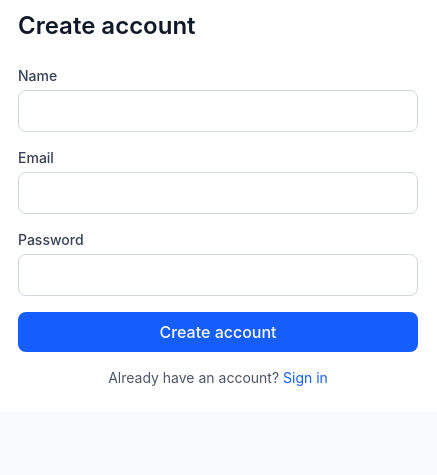
Test case: RegisterPage › clears field error when user starts typing again
Click the button "Create account": click(218, 332) [18,312,418,352]
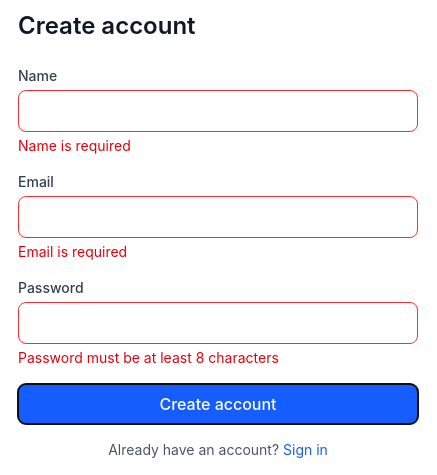
Expected: the text "Name is required" is shown, [18,137,131,154]
In the field labelled "Name": (218, 111) [18,90,418,132], type "A"
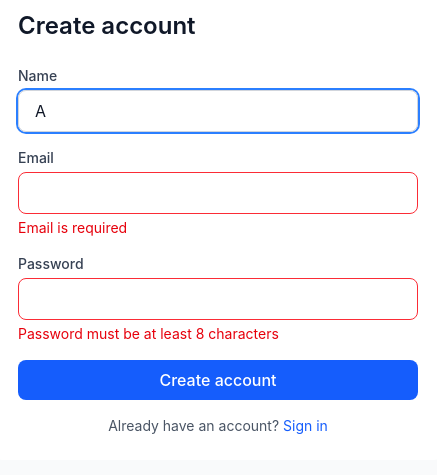
Expected: the text "Name is required" is gone
